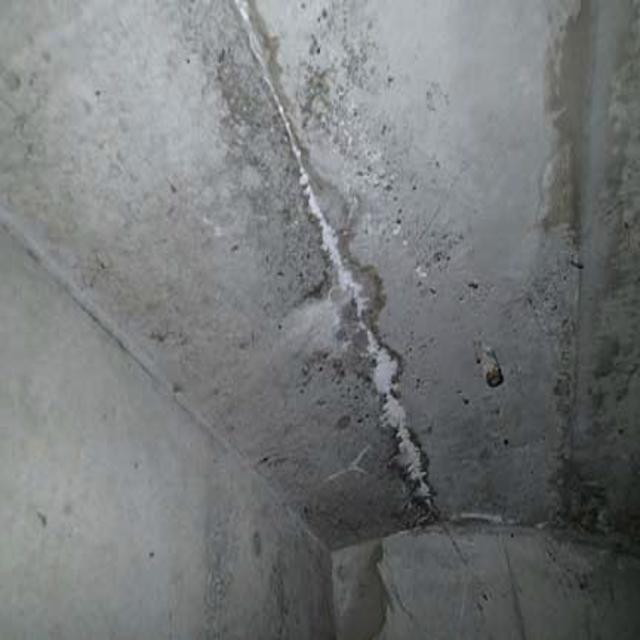leakage: (267, 150, 439, 521)
